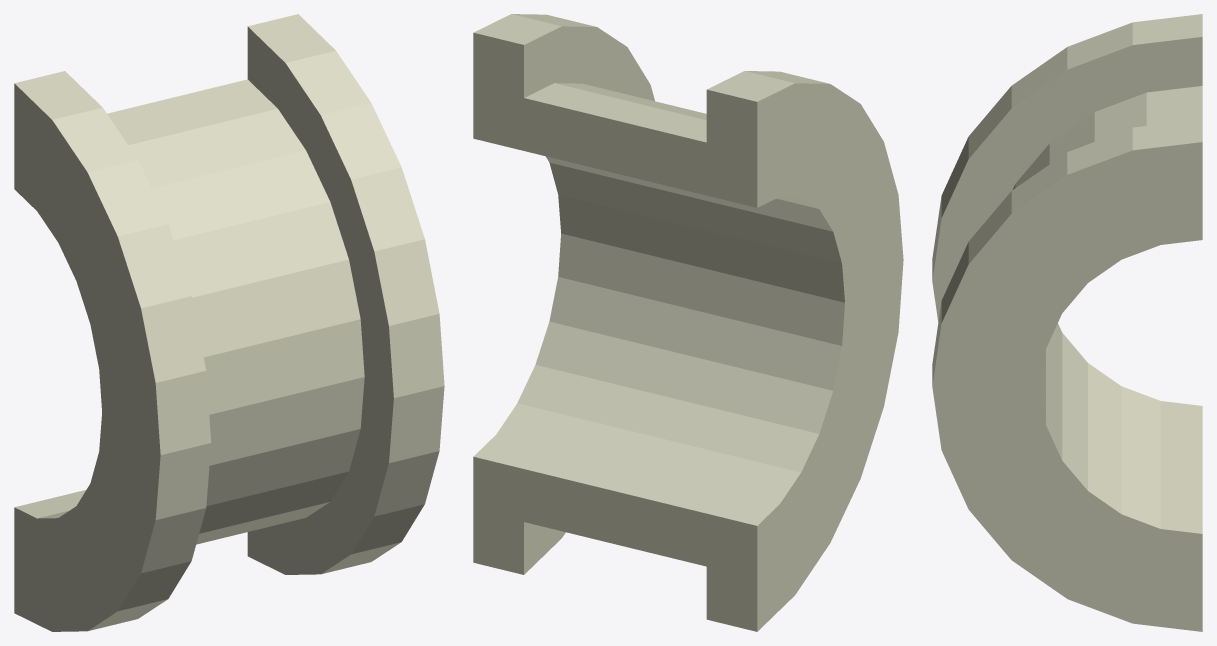
The model's file is section_130.obj.
3 renders of one model, left to right at view 1: azimuth 30°, elevation 25°; view 2: azimuth 150°, elevation 25°; view 3: azimuth 270°, elevation 25°, orthographic. The views are drawn at different scales.
Bounding box in the file's own units: 5.61 × 10 × 5.
